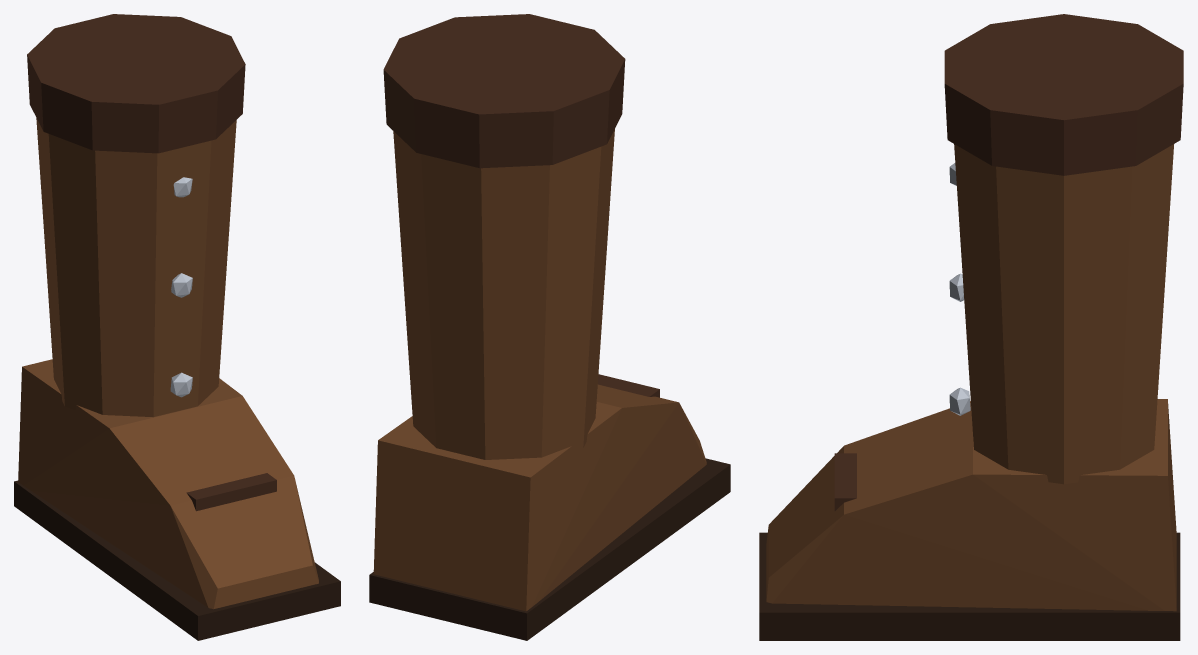
The model's file is gear_boots_studded_leg_r.glb.
3 views of the same model, side by side, from view 1: azimuth 30°, elevation 25°; view 2: azimuth 150°, elevation 25°; view 3: azimuth 270°, elevation 25° (orthographic). The views are drawn at different scales.
Parts seen in each view (by area): view 1: gear_boots_studded_leg_r; view 2: gear_boots_studded_leg_r; view 3: gear_boots_studded_leg_r.
Part boxes in pixels (left/top/right/bottom): gear_boots_studded_leg_r: left=14, top=14, right=340, bottom=640; gear_boots_studded_leg_r: left=369, top=14, right=730, bottom=640; gear_boots_studded_leg_r: left=759, top=14, right=1183, bottom=640.
Bounding box in the file's own units: 0.16 × 0.375 × 0.2701.
